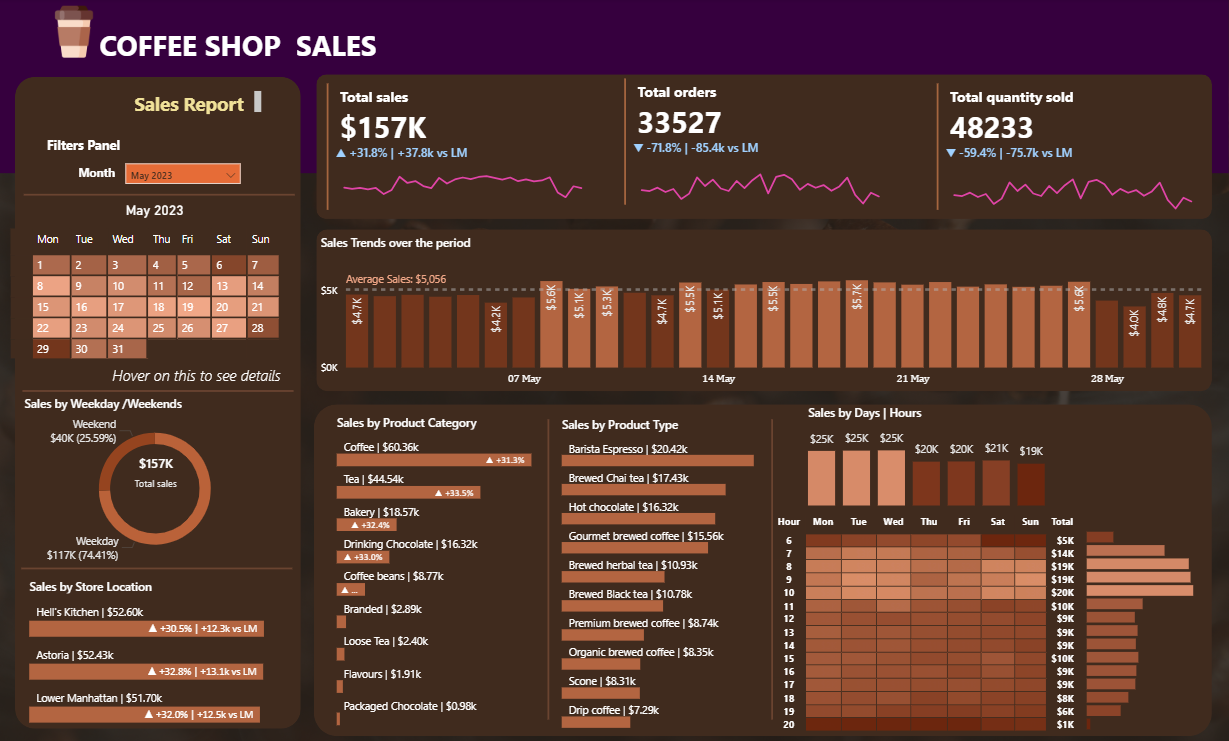

This screenshot's page, from the dashboard's own definition file:
{"tool":"powerbi","page":{"name":"Page 1","canvas":[1400,850],"ordinal":0},"visuals":[{"type":"shape","box":[0,0,1400.3,199.6],"z":0},{"type":"shape","box":[16.5,90.1,325.7,742.9],"z":1000},{"type":"shape","box":[360.2,87.1,1020.6,165.1],"z":2000},{"type":"textbox","box":[108.1,27,342.2,60],"z":3000},{"type":"cardVisual","fields":{"Data":["Table1.Total orders"]},"box":[707,87.1,300.2,154.5],"z":4000,"group":"g3"},{"type":"cardVisual","fields":{"Data":["Table1.Total quantity sold"]},"box":[1062.1,92.8,300.2,154.5],"z":4000,"group":"g4"},{"type":"cardVisual","fields":{"Data":["Table1.Total sales"]},"box":[367.7,93.2,300.2,154.5],"z":4000,"group":"g2"},{"type":"slicer","fields":{"Values":["Date table.Month & Year"]},"box":[138.1,183.1,141.1,36],"z":4000},{"type":"group","id":"g1","title":"Group 2","box":[367.7,87.1,1005.6,160.6],"z":5000},{"type":"group","id":"g2","title":"Group 1","box":[367.7,93.2,310.7,154.5],"z":5000,"group":"g1"},{"type":"group","id":"g3","title":"Group 1","box":[707,87.1,309.7,155.5],"z":6000,"group":"g1"},{"type":"lineChart","fields":{"Category":["Date table.Date.Variation.Date Hierarchy.Year","Date table.Date.Variation.Date Hierarchy.Quarter","Date table.Date.Variation.Date Hierarchy.Month","Date table.Date.Variation.Date Hierarchy.Day"],"Y":["Table1.Total orders"]},"box":[717.5,161.5,300.2,80.1],"z":6000,"group":"g3"},{"type":"lineChart","fields":{"Category":["Date table.Date.Variation.Date Hierarchy.Year","Date table.Date.Variation.Date Hierarchy.Quarter","Date table.Date.Variation.Date Hierarchy.Month","Date table.Date.Variation.Date Hierarchy.Day"],"Y":["Table1.Total orders"]},"box":[1072.6,167.2,300.2,80.1],"z":6000,"group":"g4"},{"type":"lineChart","fields":{"Y":["Table1.Total sales"],"Category":["Date table.Date.Variation.Date Hierarchy.Year","Date table.Date.Variation.Date Hierarchy.Quarter","Date table.Date.Variation.Date Hierarchy.Month","Date table.Date.Variation.Date Hierarchy.Day"]},"box":[378.2,167.6,300.2,80.1],"z":6000,"group":"g2"},{"type":"pivotTable","fields":{"Columns":["Date table.Day Name"],"Rows":["Date table.Week Number"],"Values":["Min(Date table.Day Number)"]},"box":[7.5,258.1,330.2,160.6],"z":6000},{"type":"group","id":"g4","title":"Group 1","box":[1062.1,92.8,311.2,154.1],"z":7000,"group":"g1"},{"type":"card","fields":{"Values":["Min(Date table.Month & Year)"]},"box":[138.1,225.1,76.5,34.5],"z":7000},{"type":"card","fields":{"Values":["Table1.Foot Note"]},"box":[117.1,417.2,214.6,30],"z":8000},{"type":"donutChart","title":"Sales by Weekday /Weekends","fields":{"Category":["Date table.Weekday /Weekends"],"Y":["Table1.Total sales"]},"box":[22.5,453.3,307.7,195.1],"z":9000},{"type":"card","fields":{"Values":["Table1.Total sales"]},"box":[141.1,511.8,73.5,55.5],"z":10000},{"type":"shape","box":[24,639.4,309.2,21],"z":11000},{"type":"shape","box":[25.5,436.8,309.2,21],"z":12000},{"type":"shape","box":[27,213.1,309.2,21],"z":13000},{"type":"clusteredBarChart","title":"Sales by Store Location","fields":{"Category":["Table1.store_location"],"Y":["Table1.Place Holder","Table1.Total sales"]},"box":[28.5,660.4,306.2,172.6],"z":14000},{"type":"shape","box":[360.2,264.2,1020.6,184.6],"z":15000},{"type":"columnChart","title":"Sales Trends over the period","fields":{"Category":["Table1.transaction_date"],"Y":["Table1.Total sales"]},"box":[360.2,268.7,1020.6,180.1],"z":16000},{"type":"shape","box":[357.2,462.3,1023.6,378.2],"z":17000},{"type":"clusteredBarChart","title":"Sales by Product Category","fields":{"Y":["Table1.Place Holder","Table1.Total sales"],"Category":["Table1.product_category"]},"box":[378.2,474.3,264.2,360.2],"z":18000},{"type":"shape","box":[604.8,480.3,39,342.2],"z":19000},{"type":"clusteredBarChart","title":"Sales by Product Type","fields":{"Y":["Table1.Place Holder","Table1.Total sales"],"Category":["Table1.product_type"]},"box":[634.9,477.3,264.2,360.2],"z":20000},{"type":"shape","box":[860,480.3,39,342.2],"z":21000},{"type":"pivotTable","fields":{"Rows":["Table1.Hour"],"Columns":["Date table.Day Name"],"Values":["Table1.Total sales"]},"box":[876.5,583.8,378.2,256.6],"z":22000},{"type":"textbox","box":[84,184.6,64.5,34.5],"z":23000},{"type":"barChart","fields":{"Y":["Table1.Total sales"],"Category":["Table1.Hour"]},"box":[1233.7,595.8,133.6,243.1],"z":24000},{"type":"clusteredColumnChart","title":"Sales by Days | Hours","fields":{"Y":["Table1.Total sales"],"Category":["Date table.Day Name"]},"box":[915.5,462.3,280.7,121.6],"z":25000},{"type":"textbox","box":[148.6,100.6,154.6,36],"z":26000},{"type":"textbox","box":[48,153.1,124.6,36],"z":27000},{"type":"image","box":[49.5,0,69,76.5],"z":28000}]}

Visuals, with their boxes in screenshot pixels (x1, y1, x2, y2), scaled from the page's 1400x850 canvas onto the 1229x741 screenshot:
shape: <box>0,0,1228,174</box>
shape: <box>14,79,300,726</box>
shape: <box>316,76,1212,220</box>
textbox: <box>95,24,395,76</box>
cardVisual - Table1.Total orders: <box>621,76,884,211</box>
cardVisual - Table1.Total quantity sold: <box>932,81,1196,216</box>
cardVisual - Table1.Total sales: <box>323,81,586,216</box>
slicer - Date table.Month & Year: <box>121,160,245,191</box>
"Group 2" group: <box>323,76,1206,216</box>
"Group 1" group: <box>323,81,596,216</box>
"Group 1" group: <box>621,76,893,211</box>
lineChart - Date table.Date.Variation.Date Hierarchy.Year x Date table.Date.Variation.Date Hierarchy.Quarter: <box>630,141,893,211</box>
lineChart - Date table.Date.Variation.Date Hierarchy.Year x Date table.Date.Variation.Date Hierarchy.Quarter: <box>942,146,1205,216</box>
lineChart - Table1.Total sales x Date table.Date.Variation.Date Hierarchy.Year: <box>332,146,596,216</box>
pivotTable - Date table.Day Name x Date table.Week Number: <box>7,225,296,365</box>
"Group 1" group: <box>932,81,1206,215</box>
card - Min(Date table.Month & Year): <box>121,196,188,226</box>
card - Table1.Foot Note: <box>103,364,291,390</box>
"Sales by Weekday /Weekends" donutChart: <box>20,395,290,565</box>
card - Table1.Total sales: <box>124,446,188,495</box>
shape: <box>21,557,293,576</box>
shape: <box>22,381,294,399</box>
shape: <box>24,186,295,204</box>
"Sales by Store Location" clusteredBarChart: <box>25,576,294,726</box>
shape: <box>316,230,1212,391</box>
"Sales Trends over the period" columnChart: <box>316,234,1212,391</box>
shape: <box>314,403,1212,733</box>
"Sales by Product Category" clusteredBarChart: <box>332,413,564,727</box>
shape: <box>531,419,565,717</box>
"Sales by Product Type" clusteredBarChart: <box>557,416,789,730</box>
shape: <box>755,419,789,717</box>
pivotTable - Table1.Hour x Date table.Day Name: <box>769,509,1101,733</box>
textbox: <box>74,161,130,191</box>
barChart - Table1.Total sales x Table1.Hour: <box>1083,519,1200,731</box>
"Sales by Days | Hours" clusteredColumnChart: <box>804,403,1050,509</box>
textbox: <box>130,88,266,119</box>
textbox: <box>42,133,152,165</box>
image: <box>43,0,104,67</box>
